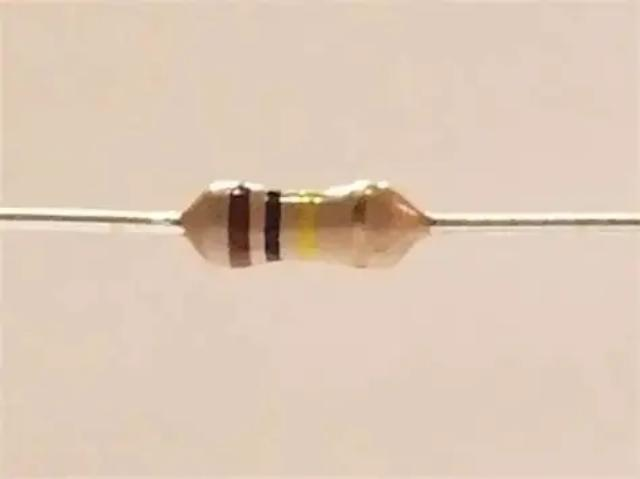black: (262, 177, 286, 270)
brown: (226, 178, 255, 273)
gold: (352, 176, 386, 284)
resistor: (178, 161, 436, 294)
yellow: (292, 178, 323, 265)
